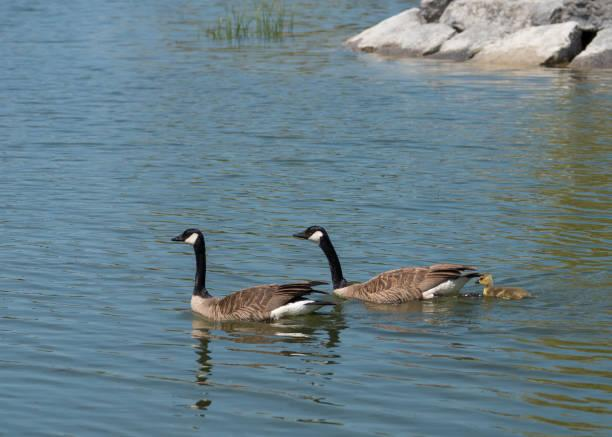Canadian-Goose: (174, 226, 330, 332), (294, 223, 471, 301), (478, 271, 535, 305)
